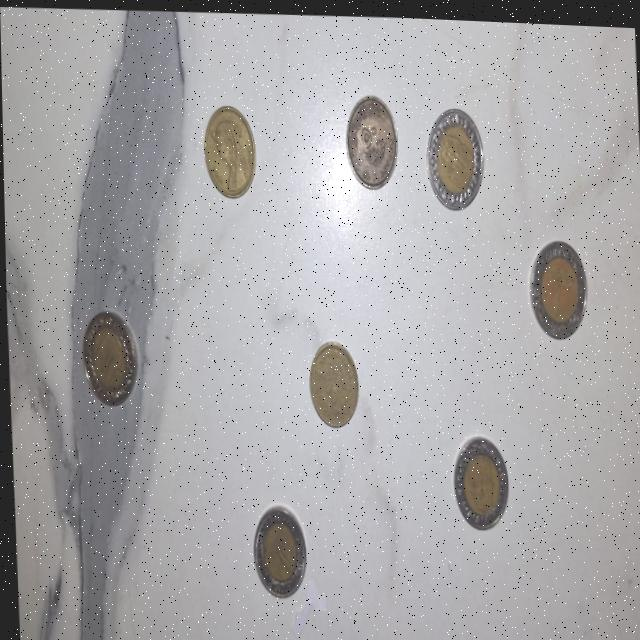Half Pound: (200, 89, 262, 203), (339, 80, 403, 189), (296, 328, 360, 435)
One Pound: (416, 95, 496, 221), (519, 236, 595, 348), (69, 305, 142, 420), (244, 491, 311, 616), (448, 413, 512, 540)
